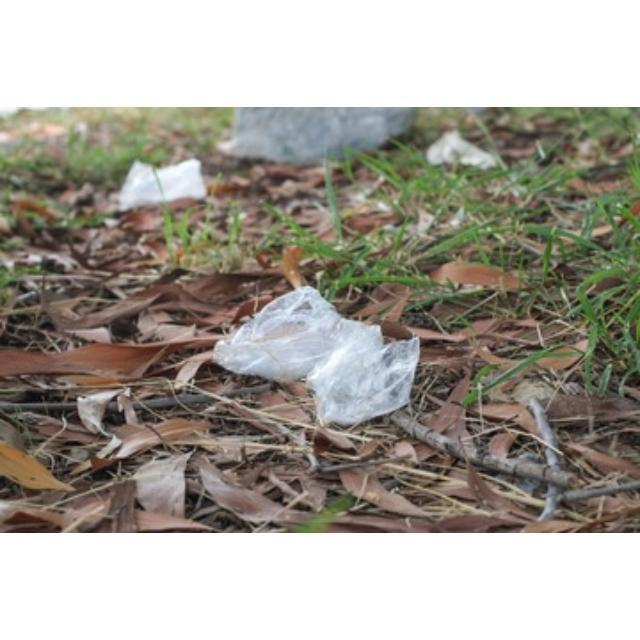plastic: (213, 286, 419, 424), (118, 158, 204, 210)
